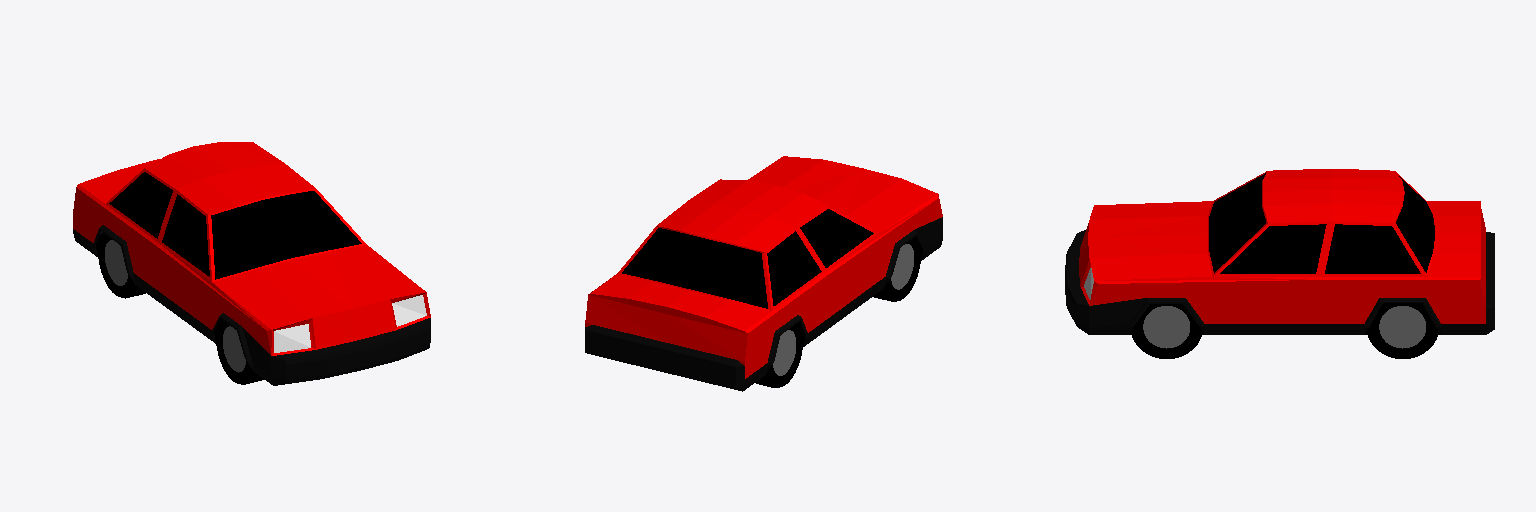
The model's file is Car.obj.
The picture shows the model from 3 angles: view 1: azimuth 30°, elevation 25°; view 2: azimuth 150°, elevation 25°; view 3: azimuth 270°, elevation 25°; orthographic projection.
Parts seen in each view (by area): view 1: Car_Cube; view 2: Car_Cube; view 3: Car_Cube.
Part boxes in pixels (bbox=[...]): Car_Cube: bbox=[73, 142, 430, 385]; Car_Cube: bbox=[585, 156, 942, 391]; Car_Cube: bbox=[1065, 169, 1494, 358].
Size of the model in its own units: 2.1 by 1.59 by 4.67.